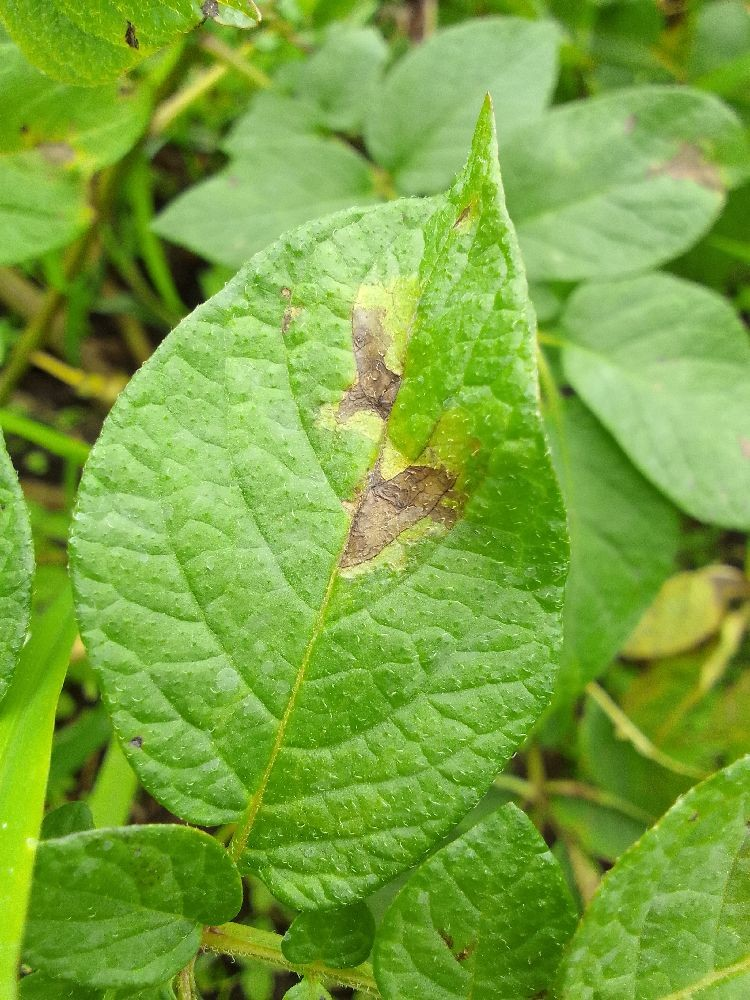late_blight: (0, 262, 172, 459), (325, 448, 484, 584), (494, 728, 612, 870), (324, 298, 415, 435)
